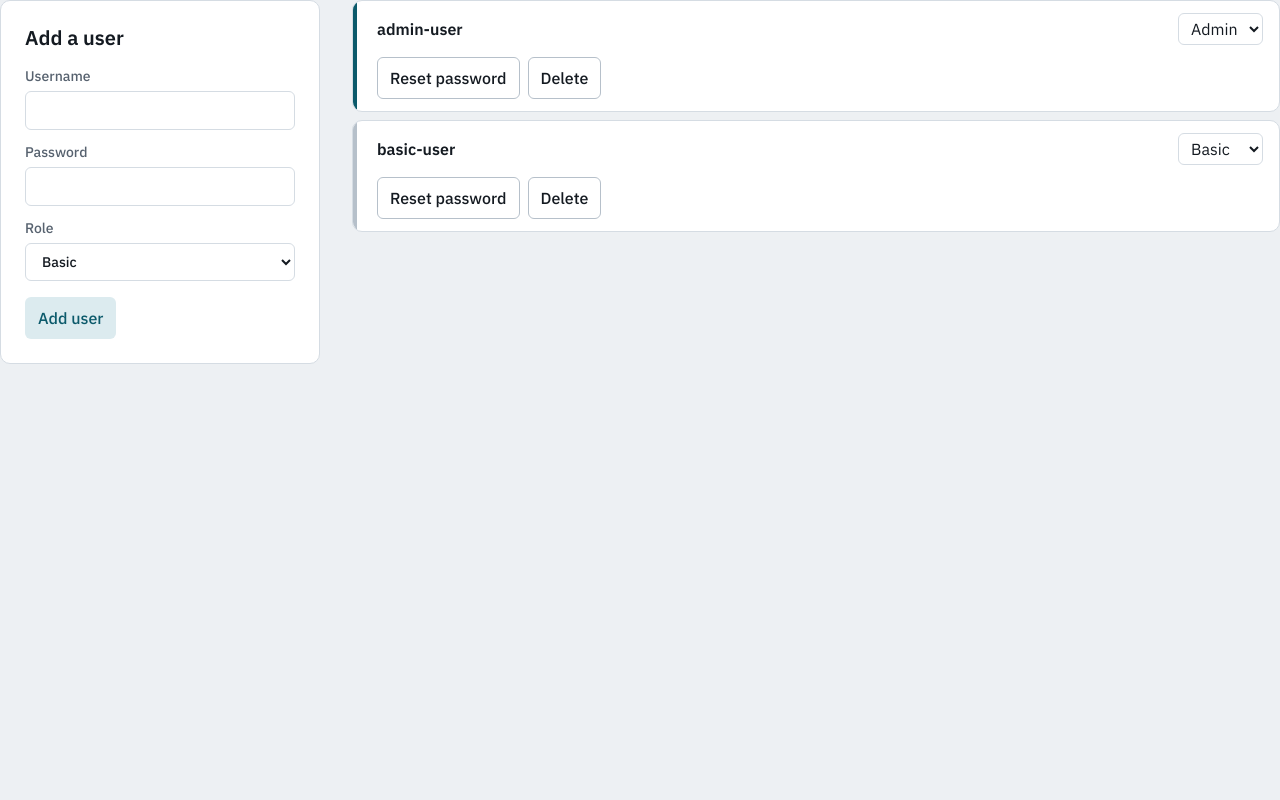
Scenario: a rejected change shows the error from the API
Check: the text "admin-user" is shown, box [377,17,463,41]
Select "Basic" in the dropdown named "Role for admin-user" in the row of "admin-user" at (1220, 29), box [1178,13,1263,45]
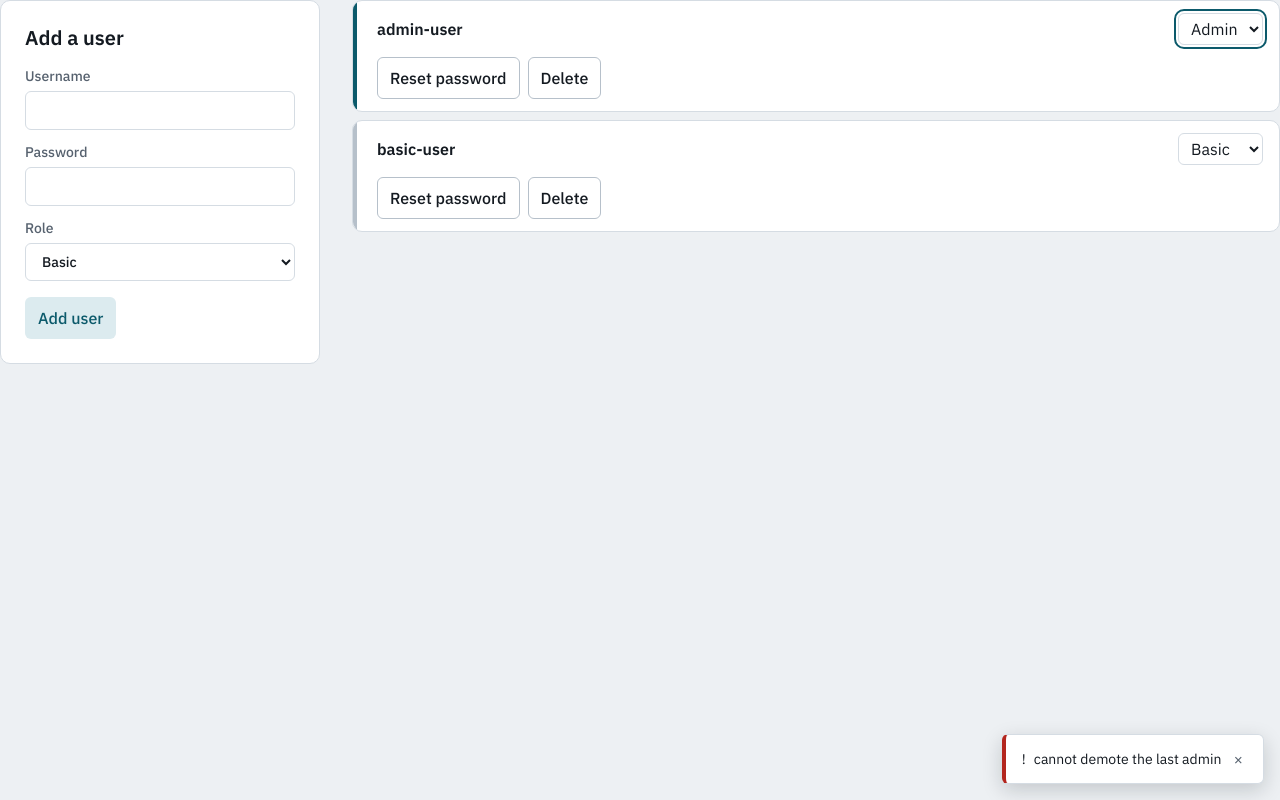
Check: the message shows "cannot demote the last admin", box [1034,750,1221,768]
